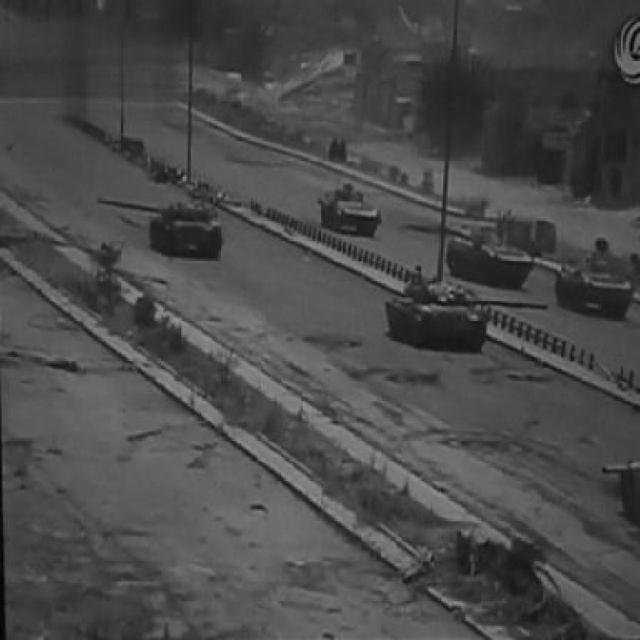Tank: (376, 269, 554, 363), (544, 214, 640, 334), (91, 190, 229, 269), (430, 206, 554, 292), (310, 176, 390, 248), (596, 448, 640, 537)
